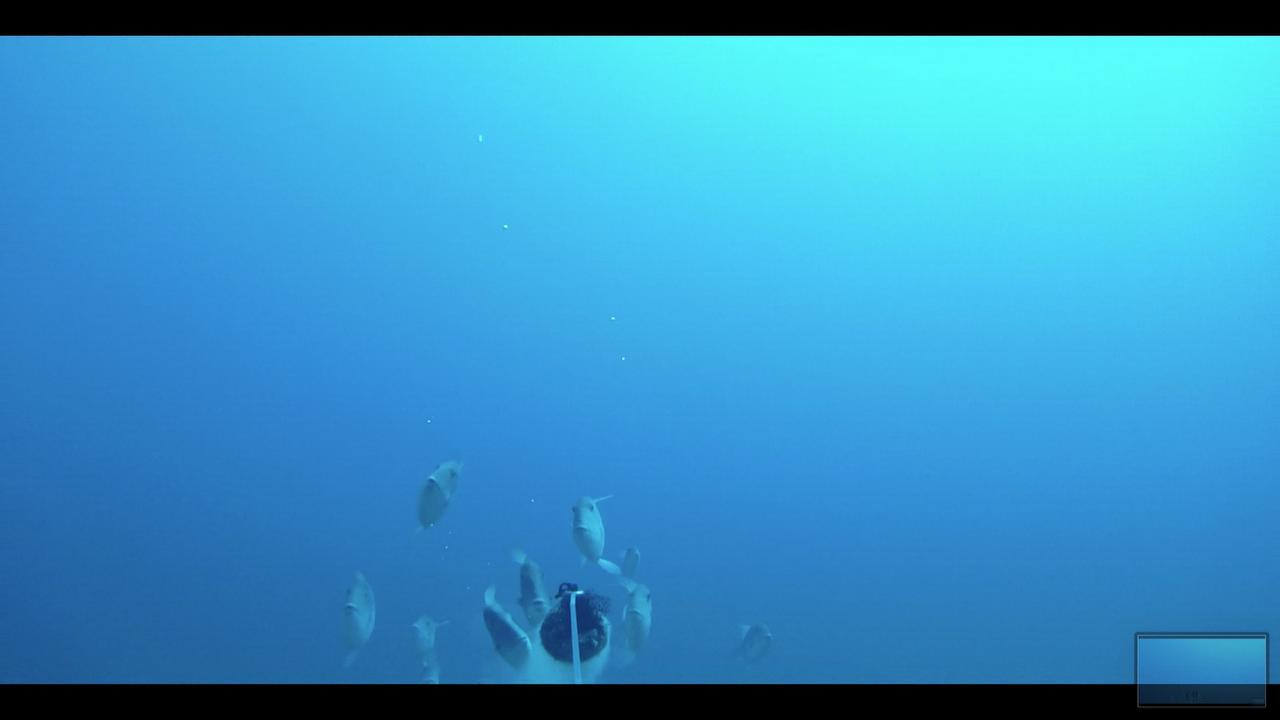balistes: (565, 480, 622, 577), (471, 583, 531, 673), (410, 447, 464, 534), (332, 570, 376, 667), (615, 570, 651, 668), (509, 547, 553, 624), (405, 613, 448, 669), (726, 617, 773, 668)
